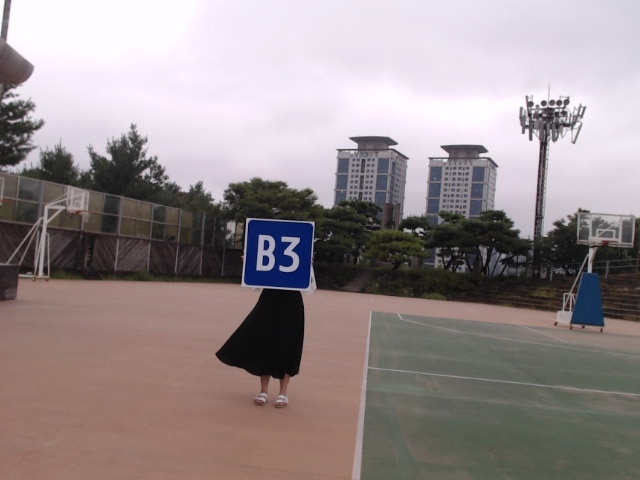delivery_b3: (242, 219, 314, 289)
